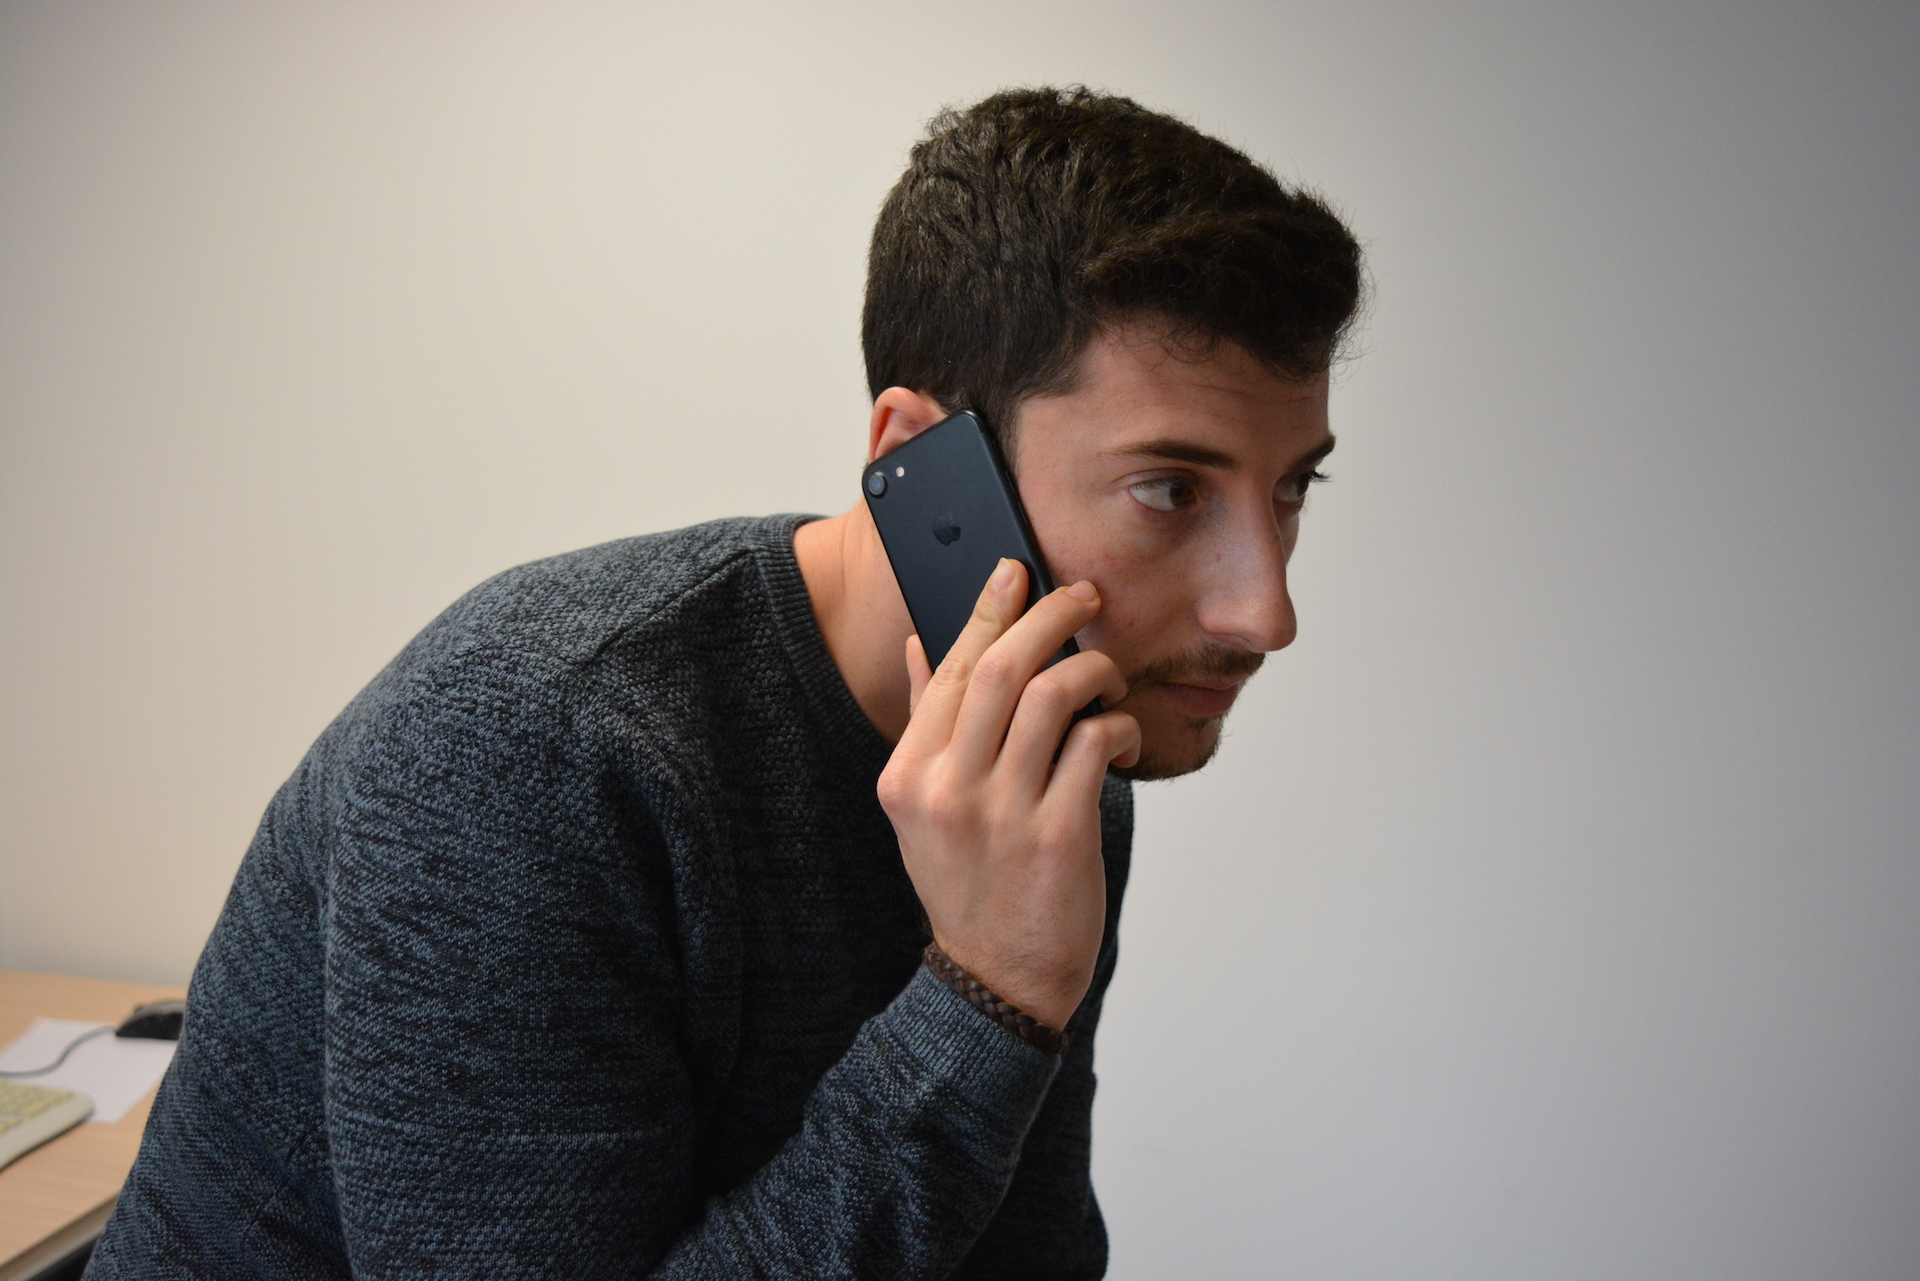smartphone: (861, 406, 1109, 743)
